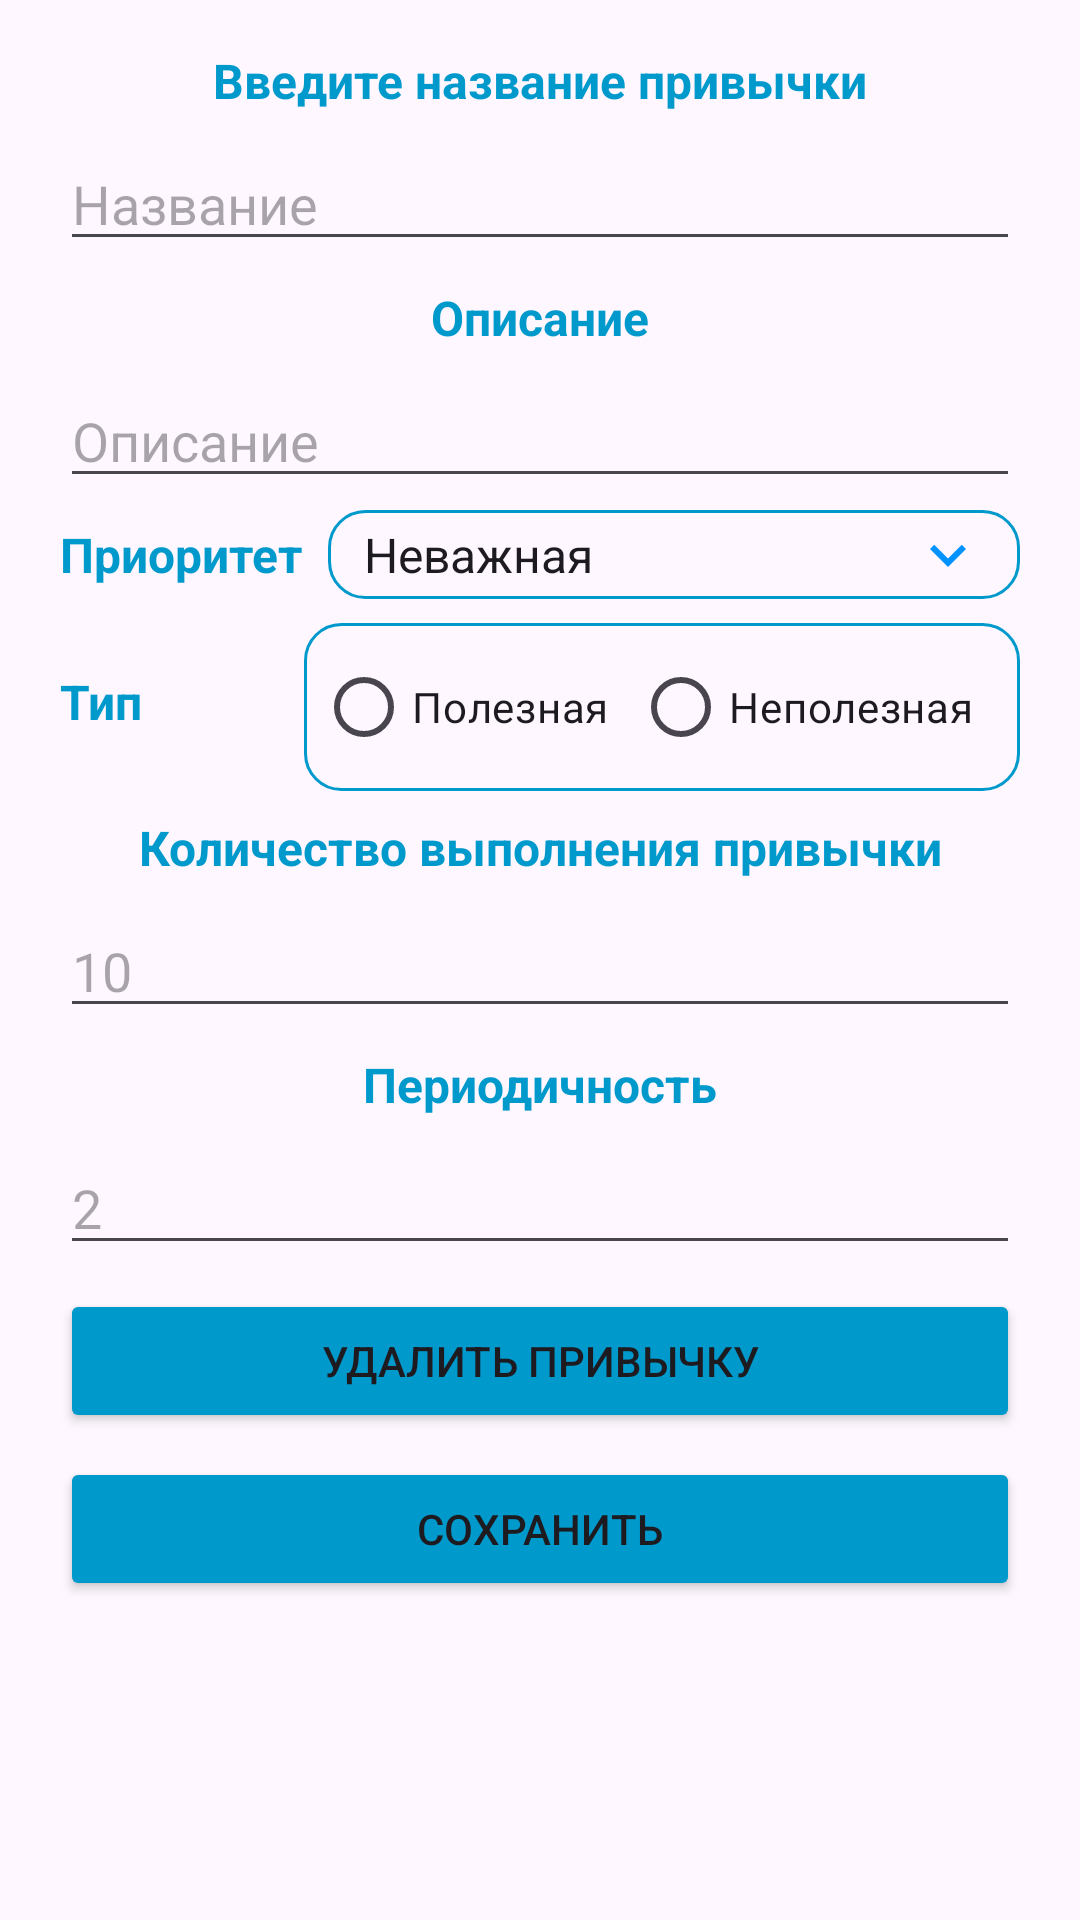

Where to tap for icons on this 1080px x 1920px app screen, as (x=x, y=y):
expand more: (x=948, y=556)
